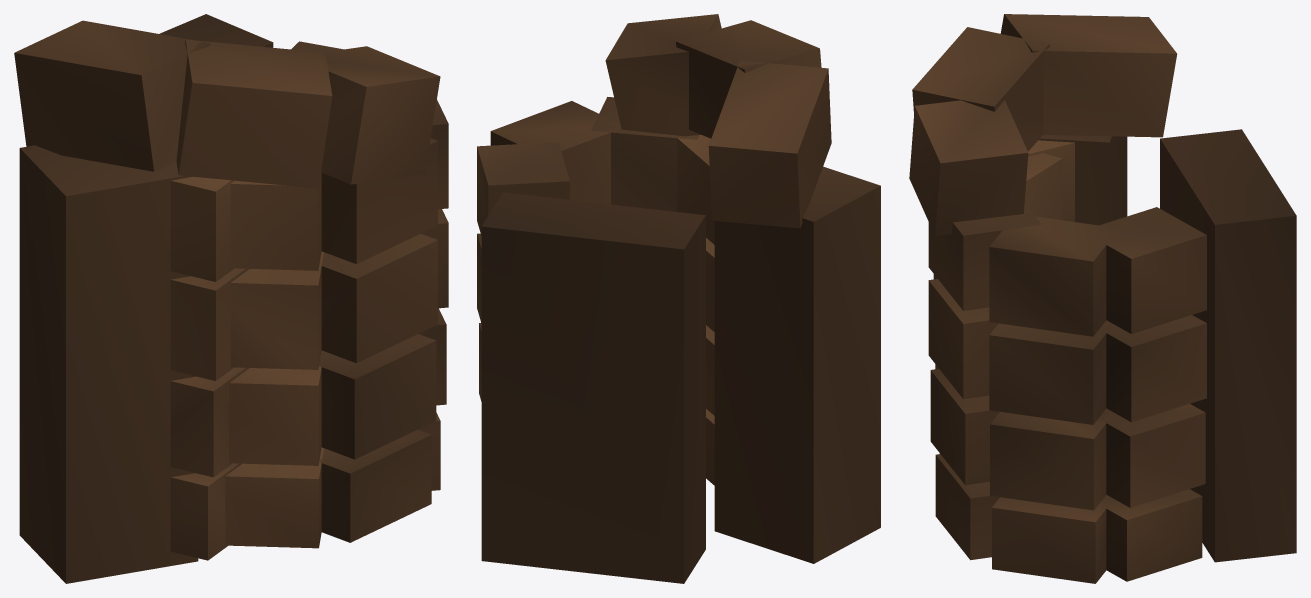
Rendered from fist.glb.
3 views of the same model, side by side, from view 1: azimuth 30°, elevation 25°; view 2: azimuth 150°, elevation 25°; view 3: azimuth 270°, elevation 25° (orthographic). The views are drawn at different scales.
Visible parts, largest first — view 1: fist; view 2: fist; view 3: fist.
Part boxes in pixels (x1,y1,x2,y2): fist: (14,14,448,583); fist: (477,14,880,583); fist: (909,14,1296,583).
Bounding box in the file's own units: 0.0973 × 0.1157 × 0.0915.
